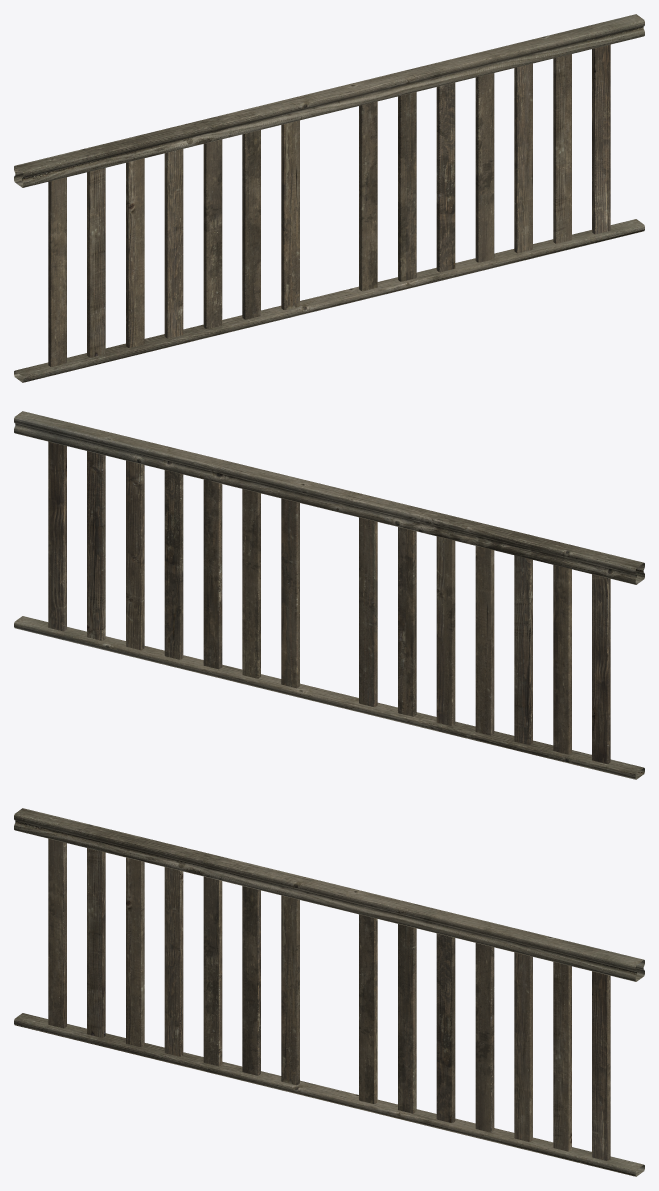
The model's file is Barier_el2.fbx.
3 renders of one model, top to bottom at view 1: azimuth 30°, elevation 25°; view 2: azimuth 150°, elevation 25°; view 3: azimuth 330°, elevation 25°, orthographic.
Parts seen in each view (by area): view 1: polySurface222; view 2: polySurface222; view 3: polySurface222.
Part boxes in pixels (<box>): polySurface222: <box>14,14,644,382</box>; polySurface222: <box>14,411,644,779</box>; polySurface222: <box>14,808,644,1176</box>.
Size of the model in its own units: 400 by 130 by 10.48.
1 material, 1 textured.
